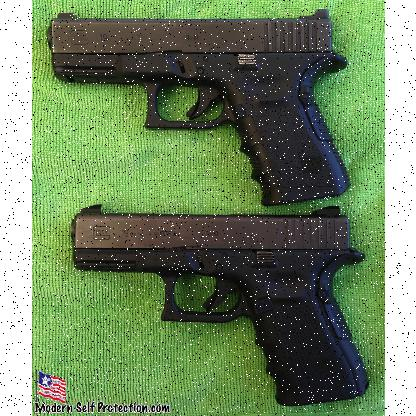gun: (70, 202, 366, 408), (46, 8, 350, 206)
